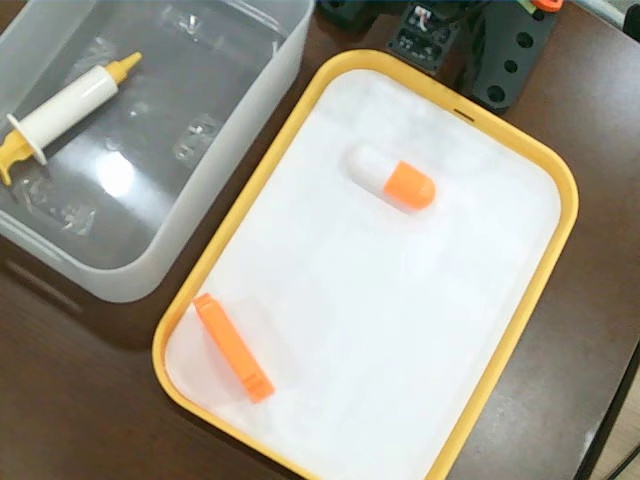pill: (332, 134, 443, 214)
syringe: (0, 46, 146, 187)
